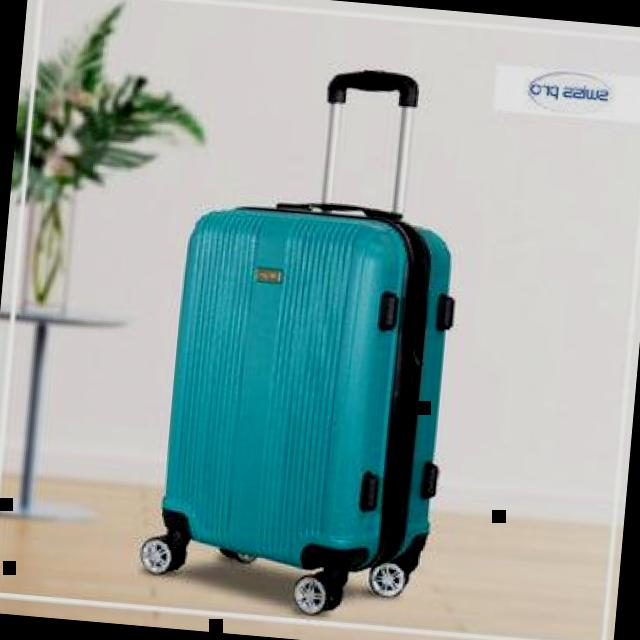luggage: (150, 185, 465, 588)
